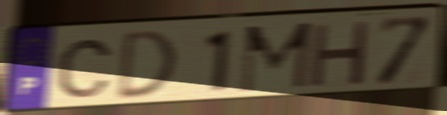1: (202, 28, 237, 94)
7: (377, 13, 433, 88)
C: (55, 37, 116, 100)
D: (113, 28, 180, 104)
H: (307, 18, 373, 90)
M: (237, 19, 315, 96)
